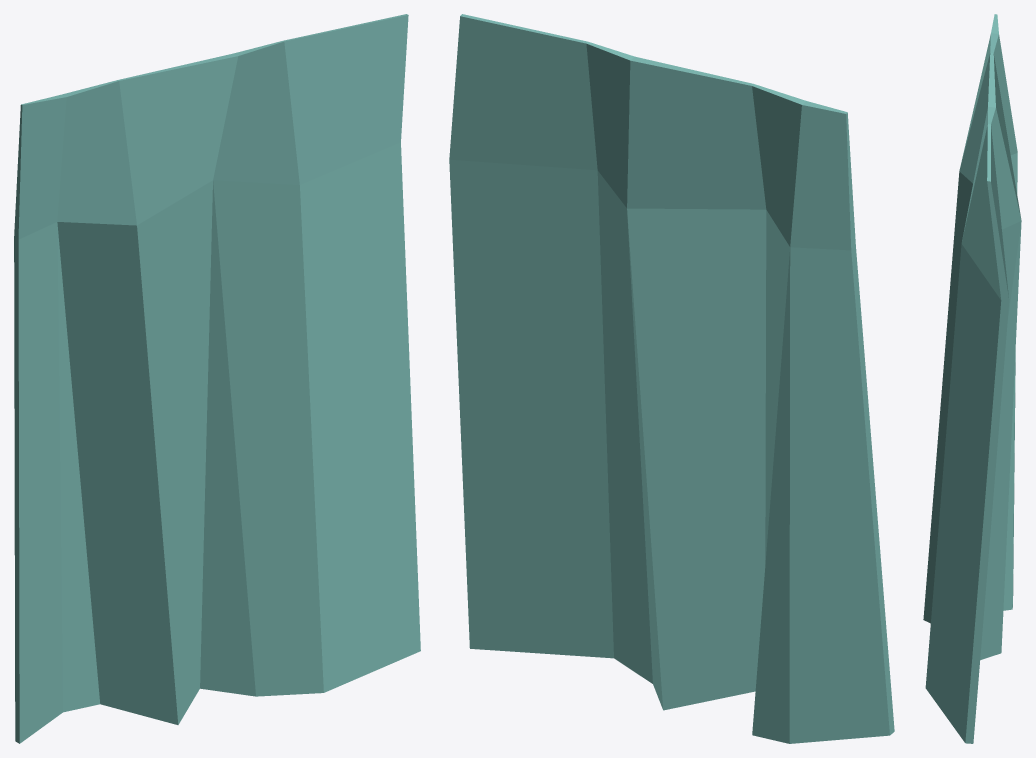
File: Bathroom_Curtain.fbx
The picture shows the model from 3 angles, left to right: view 1: azimuth 30°, elevation 25°; view 2: azimuth 150°, elevation 25°; view 3: azimuth 270°, elevation 25°; orthographic projection. The views are drawn at different scales.
Visible parts, largest first — view 1: Bathroom_Curtain; view 2: Bathroom_Curtain; view 3: Bathroom_Curtain.
Part boxes in pixels (x1=…): Bathroom_Curtain: x1=14, y1=14, x2=420, y2=743; Bathroom_Curtain: x1=449, y1=14, x2=894, y2=743; Bathroom_Curtain: x1=923, y1=14, x2=1021, y2=743.
Bounding box in the file's own units: 188 × 43.73 × 278.
